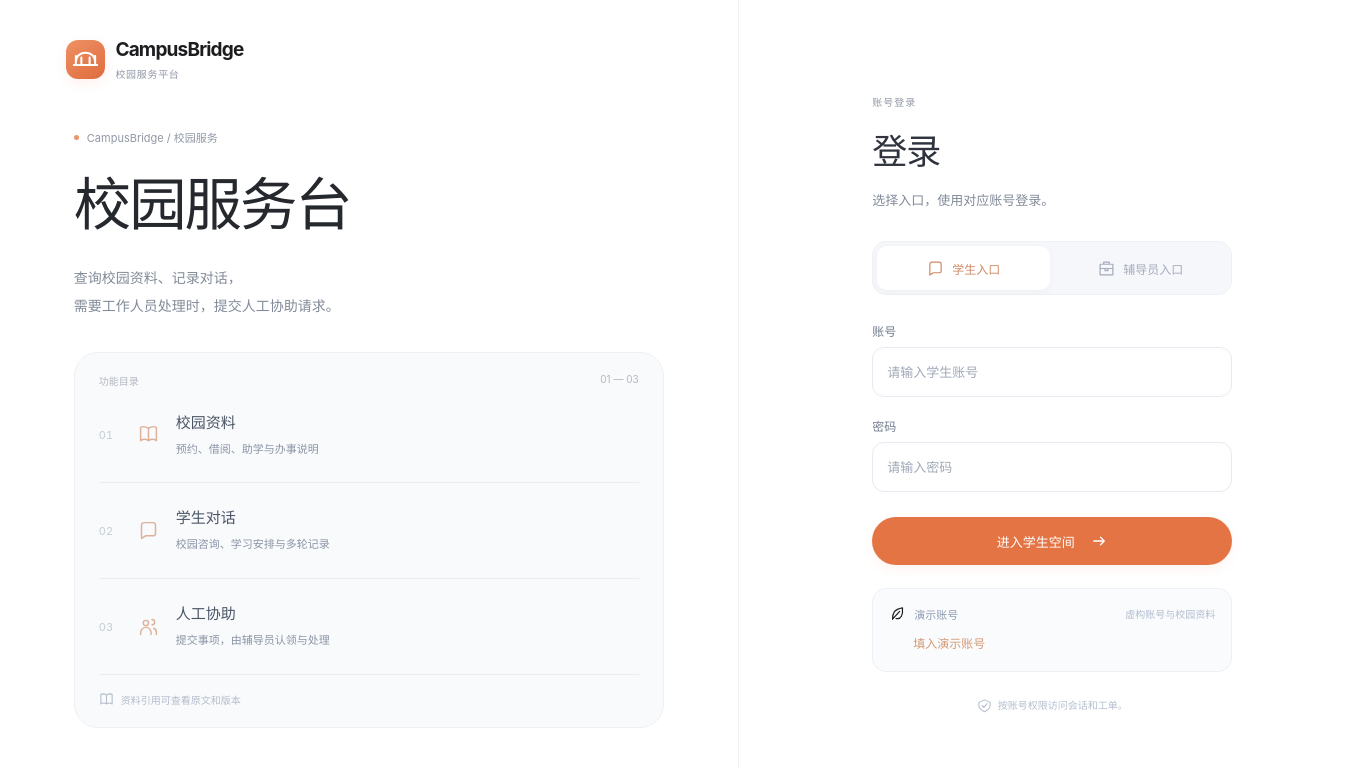
it: bad login shows a useful error and leaves no session
Click the button "填入演示账号" at [949, 643], box [909,630,989,655]
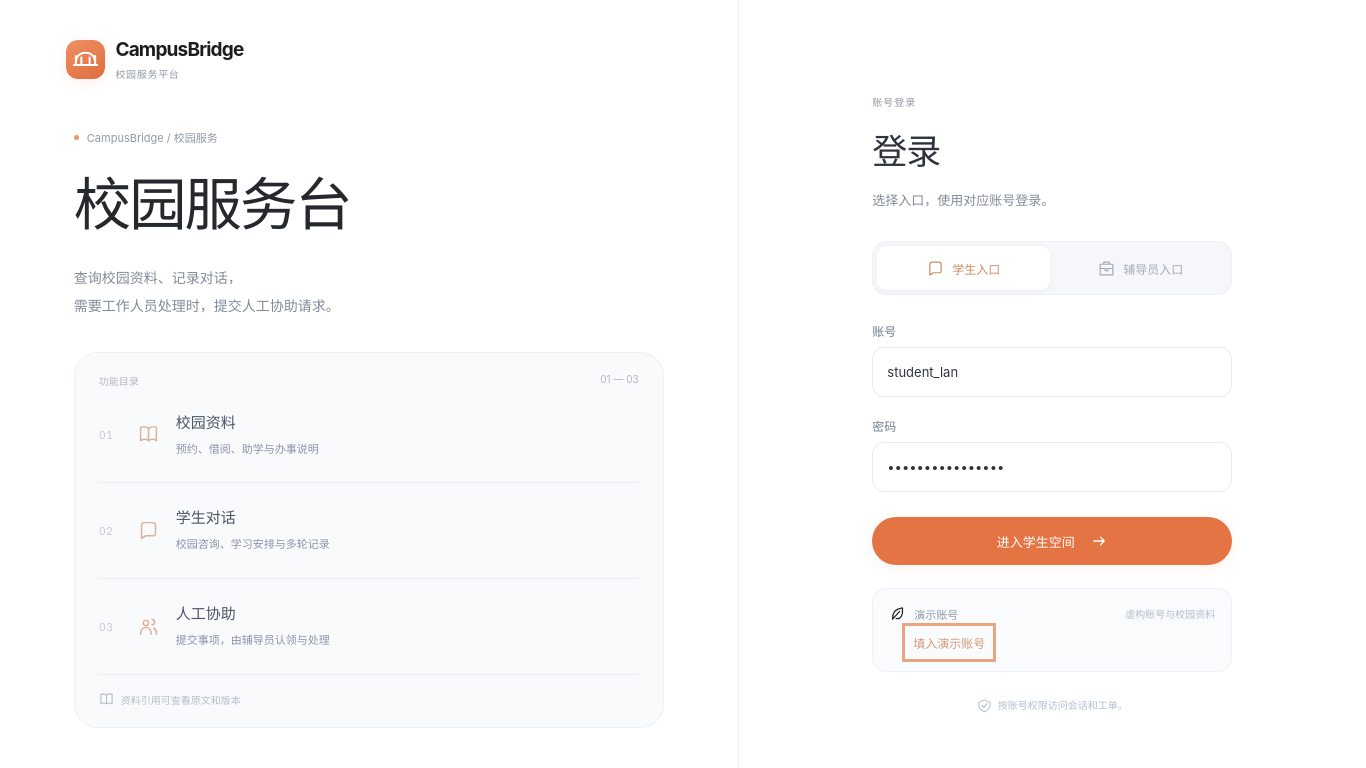
Click the button "进入学生空间" at [1052, 541], box [872,517,1232,565]
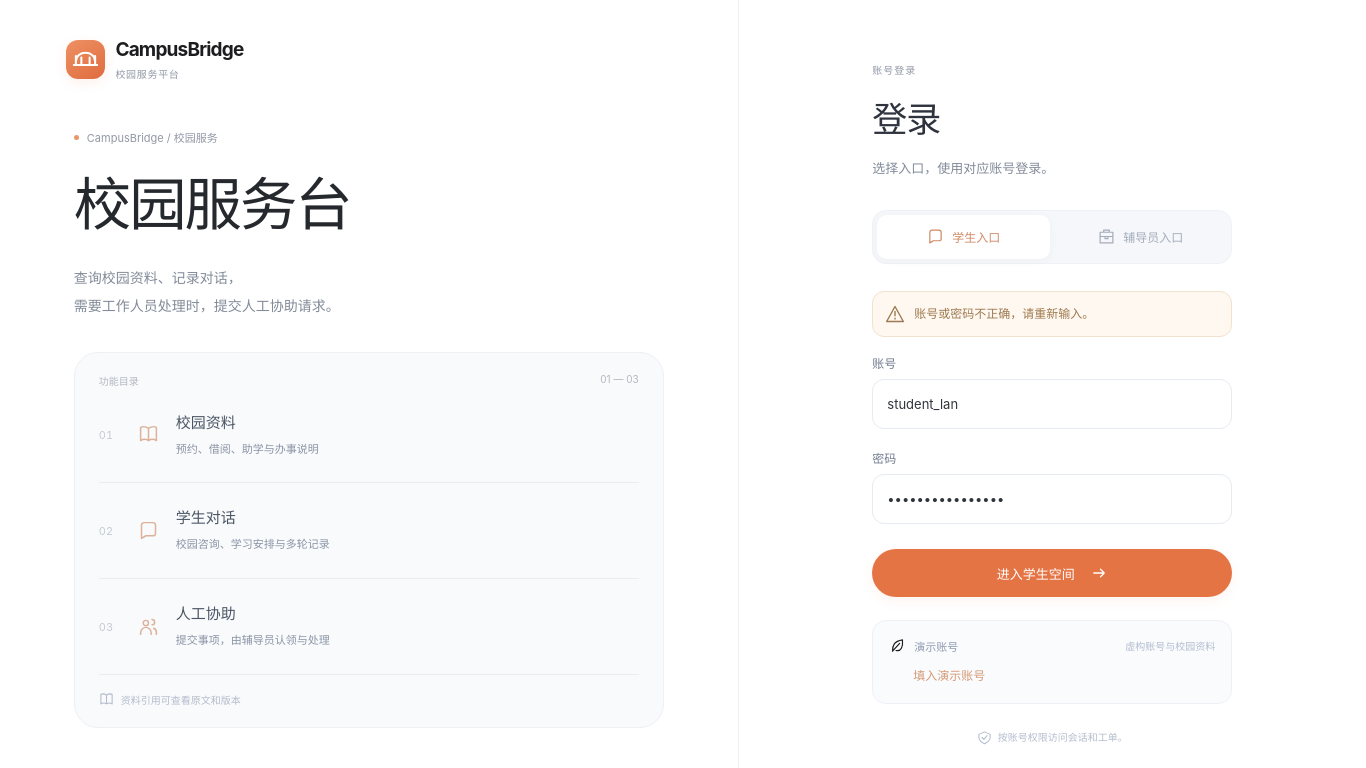
Expected: the text "账号或密码不正确，请重新输入。" is shown, [914,306,1094,321]
